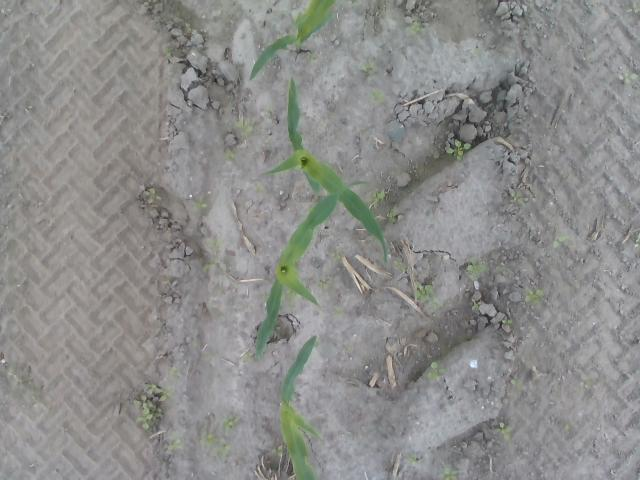Maize: (257, 76, 390, 266), (252, 180, 368, 362), (250, 0, 337, 81), (277, 334, 325, 480)
Weeds: (131, 380, 173, 433), (414, 282, 444, 311), (446, 137, 472, 161), (465, 255, 488, 280), (427, 358, 448, 381), (234, 118, 254, 136), (526, 288, 544, 306), (144, 188, 162, 206), (618, 70, 640, 84), (509, 188, 528, 204), (391, 257, 408, 274), (222, 146, 240, 162), (167, 436, 184, 452), (552, 233, 568, 249), (438, 468, 459, 480), (494, 420, 511, 434), (371, 88, 385, 104), (200, 431, 216, 445), (223, 415, 240, 428), (207, 238, 224, 250), (217, 440, 231, 454), (626, 0, 640, 14), (272, 444, 284, 458), (163, 46, 176, 58), (406, 454, 419, 466), (409, 23, 422, 34), (168, 366, 182, 376), (361, 63, 376, 72), (372, 190, 385, 200), (202, 262, 215, 272), (496, 317, 514, 324), (633, 233, 640, 249), (196, 201, 208, 210), (242, 351, 255, 359), (470, 301, 480, 310), (580, 380, 590, 389), (510, 377, 521, 385), (320, 280, 328, 288), (336, 255, 342, 260)
